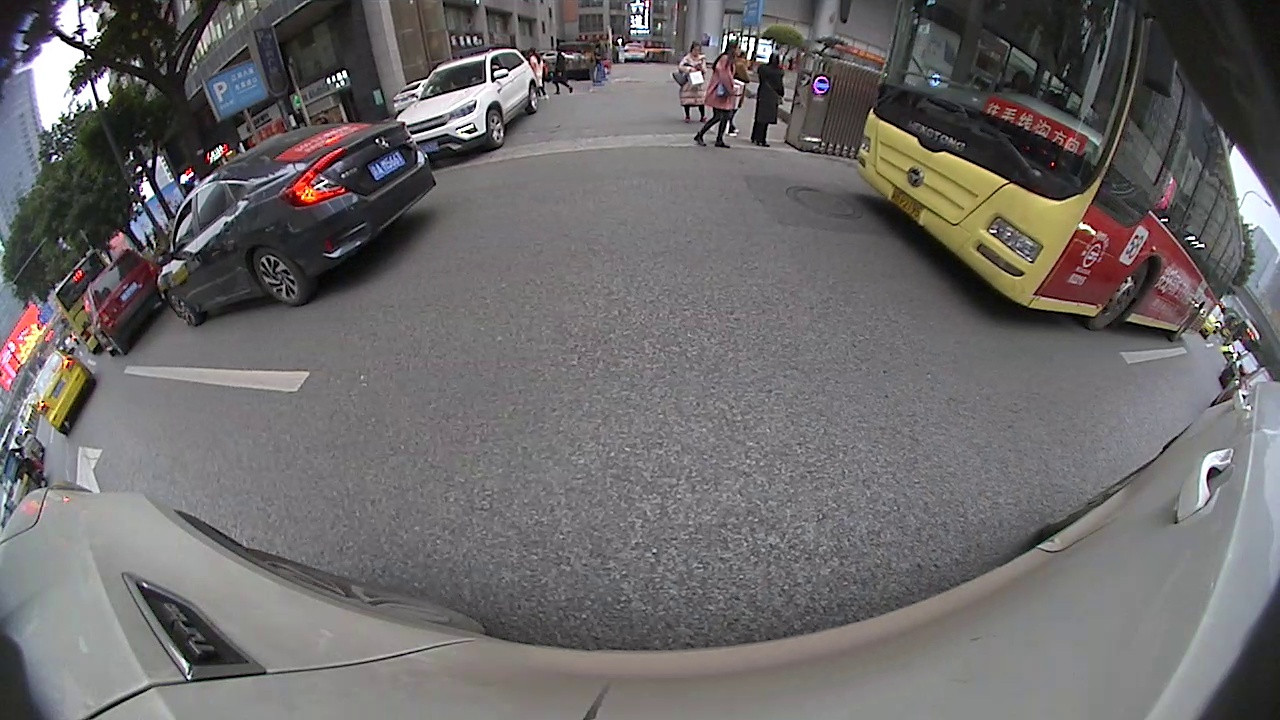bus: (836, 0, 1248, 346)
car: (154, 115, 435, 333), (396, 43, 546, 165), (82, 244, 168, 358), (25, 346, 99, 437)
front: (1080, 256, 1154, 333), (163, 293, 207, 329), (484, 110, 509, 151)
person: (713, 25, 745, 149), (754, 45, 790, 152), (681, 36, 707, 127)
rear: (249, 253, 320, 307), (527, 86, 544, 113)
